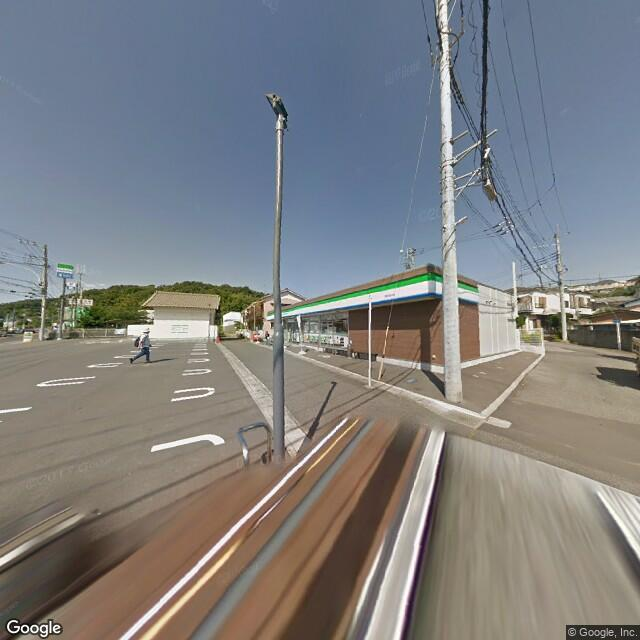family_mart: (278, 267, 435, 324), (427, 272, 481, 308), (55, 259, 77, 284)
